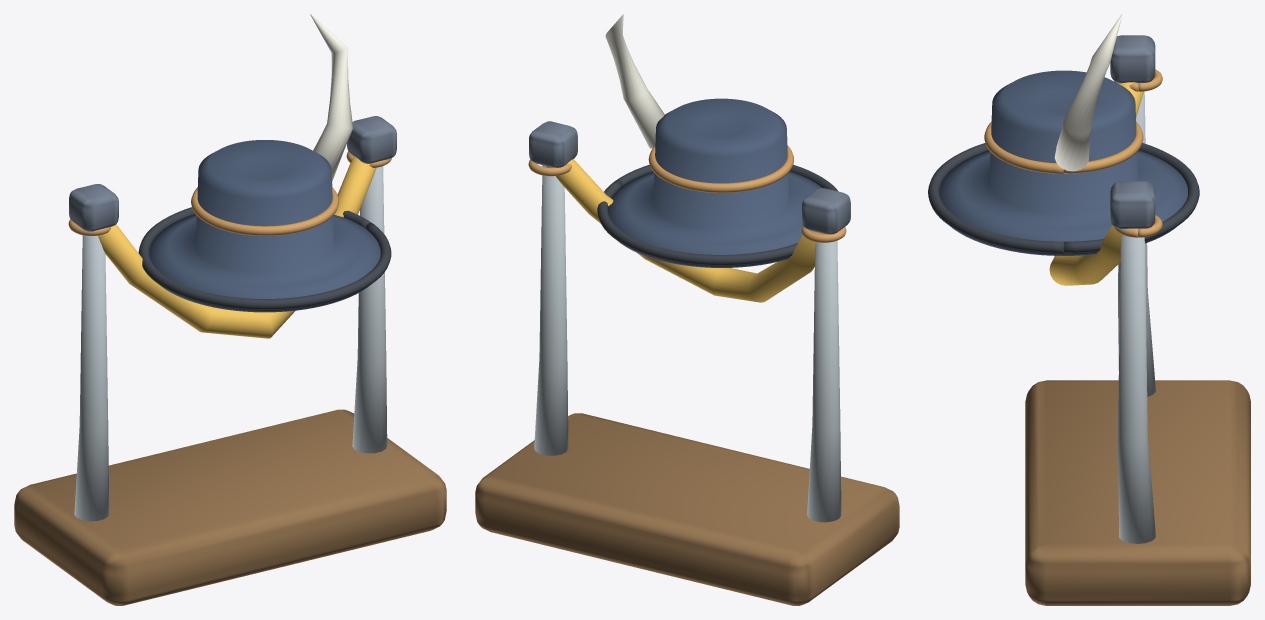
File: S06_Quantum_Rubber_Band_Teacher_Hat.glb
The picture shows the model from 3 angles, left to right: view 1: azimuth 30°, elevation 25°; view 2: azimuth 150°, elevation 25°; view 3: azimuth 270°, elevation 25°; orthographic projection. The views are drawn at different scales.
Visible parts, largest first — view 1: S06 actual polished science experiment table base, S06 teacher felt fedora brim and round crown, S06_RIG_ACTOR | Actual tempered metal band testing steel arm, S06 true heavy U-shaped experimental elastic band with sag, S06 fedora real thick stitched felt brim, S06_RIG_ACTOR | Strong silicone rubber slingshot grip, S06 physical long curved unlicensed teacher-feather, S06 fedora raised teacher ceremonial hat band; view 2: S06 actual polished science experiment table base, S06 teacher felt fedora brim and round crown, S06_RIG_ACTOR | Actual tempered metal band testing steel arm, S06 true heavy U-shaped experimental elastic band with sag, S06_RIG_ACTOR | Strong silicone rubber slingshot grip, S06 fedora real thick stitched felt brim, S06 physical long curved unlicensed teacher-feather, S06 fedora raised teacher ceremonial hat band, S06_RIG_ACTOR | Slingshot spring coil copper; view 3: S06 actual polished science experiment table base, S06 teacher felt fedora brim and round crown, S06_RIG_ACTOR | Actual tempered metal band testing steel arm, S06 fedora real thick stitched felt brim, S06_RIG_ACTOR | Strong silicone rubber slingshot grip, S06 physical long curved unlicensed teacher-feather, S06 true heavy U-shaped experimental elastic band with sag, S06 fedora raised teacher ceremonial hat band, S06_RIG_ACTOR | Slingshot spring coil copper.
Boxes of the visible parts, box(x1,y1,x2,y2) form: S06 actual polished science experiment table base: box(14, 409, 446, 605); S06 teacher felt fedora brim and round crown: box(149, 140, 380, 312); S06_RIG_ACTOR | Actual tempered metal band testing steel arm: box(74, 166, 387, 521); S06 true heavy U-shaped experimental elastic band with sag: box(98, 156, 376, 338); S06 fedora real thick stitched felt brim: box(138, 207, 391, 309); S06_RIG_ACTOR | Strong silicone rubber slingshot grip: box(69, 116, 396, 231); S06 physical long curved unlicensed teacher-feather: box(310, 14, 353, 181); S06 fedora raised teacher ceremonial hat band: box(191, 187, 338, 235); S06 actual polished science experiment table base: box(475, 413, 899, 605); S06 teacher felt fedora brim and round crown: box(608, 98, 821, 267); S06_RIG_ACTOR | Actual tempered metal band testing steel arm: box(534, 165, 841, 522); S06 true heavy U-shaped experimental elastic band with sag: box(546, 159, 824, 302); S06_RIG_ACTOR | Strong silicone rubber slingshot grip: box(529, 121, 850, 234); S06 fedora real thick stitched felt brim: box(597, 164, 838, 265); S06 physical long curved unlicensed teacher-feather: box(605, 14, 664, 148); S06 fedora raised teacher ceremonial hat band: box(648, 145, 793, 192); S06_RIG_ACTOR | Slingshot spring coil copper: box(528, 159, 846, 242); S06 actual polished science experiment table base: box(1025, 380, 1250, 605); S06 teacher felt fedora brim and round crown: box(939, 70, 1187, 255); S06_RIG_ACTOR | Actual tempered metal band testing steel arm: box(1118, 91, 1155, 543); S06 fedora real thick stitched felt brim: box(928, 143, 1199, 253); S06_RIG_ACTOR | Strong silicone rubber slingshot grip: box(1110, 35, 1155, 229); S06 physical long curved unlicensed teacher-feather: box(1054, 14, 1122, 171); S06 true heavy U-shaped experimental elastic band with sag: box(1049, 82, 1143, 285); S06 fedora raised teacher ceremonial hat band: box(984, 121, 1143, 173); S06_RIG_ACTOR | Slingshot spring coil copper: box(1114, 69, 1162, 237).
Bounding box in the file's own units: 1.6 × 2.28 × 1.22.
